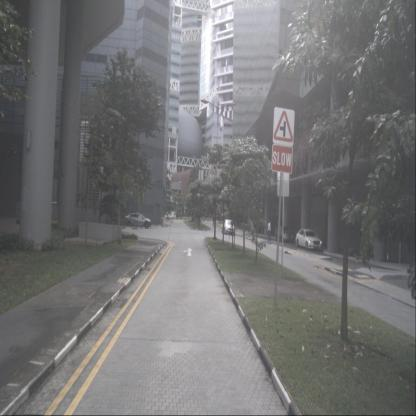human-pedestrian-adult: (268, 220, 272, 242)
vehicle-car: (295, 228, 322, 250), (124, 213, 152, 228), (275, 226, 294, 243), (222, 219, 235, 235)
